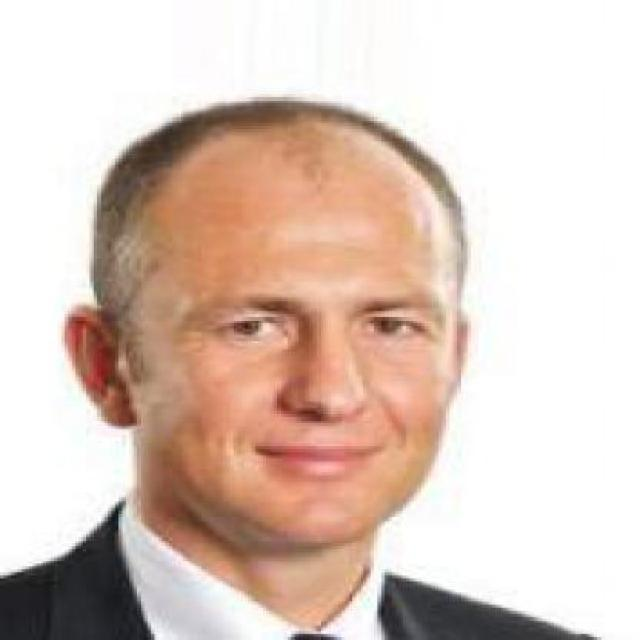closed-mouth: (265, 438, 383, 473)
